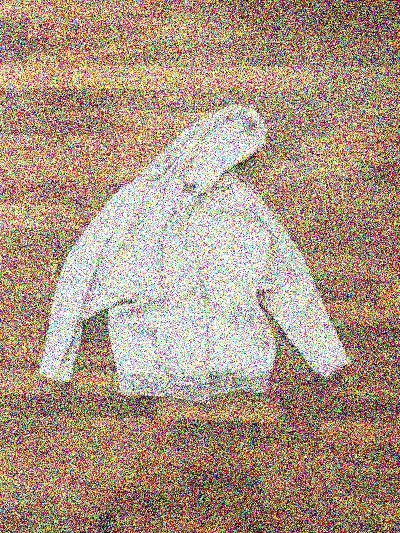Hoodie: (0, 66, 384, 423)
